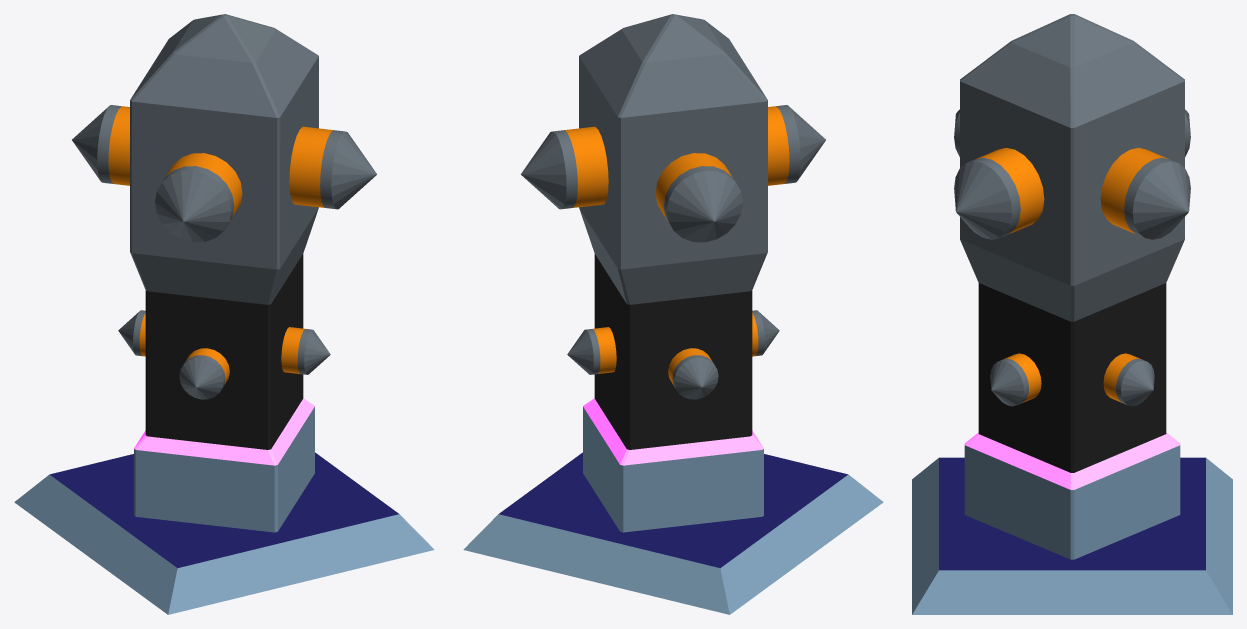
File: Waall_8.fbx
The picture shows the model from 3 angles, left to right: view 1: azimuth 30°, elevation 25°; view 2: azimuth 150°, elevation 25°; view 3: azimuth 270°, elevation 25°; orthographic projection. The views are drawn at different scales.
Parts seen in each view (by area): view 1: waal_solid_8; view 2: waal_solid_8; view 3: waal_solid_8.
Part boxes in pixels (x1=…): waal_solid_8: x1=14, y1=14, x2=434, y2=614; waal_solid_8: x1=463, y1=14, x2=883, y2=614; waal_solid_8: x1=912, y1=14, x2=1232, y2=614.
Bounding box in the file's own units: 39.36 × 72.06 × 39.36.
